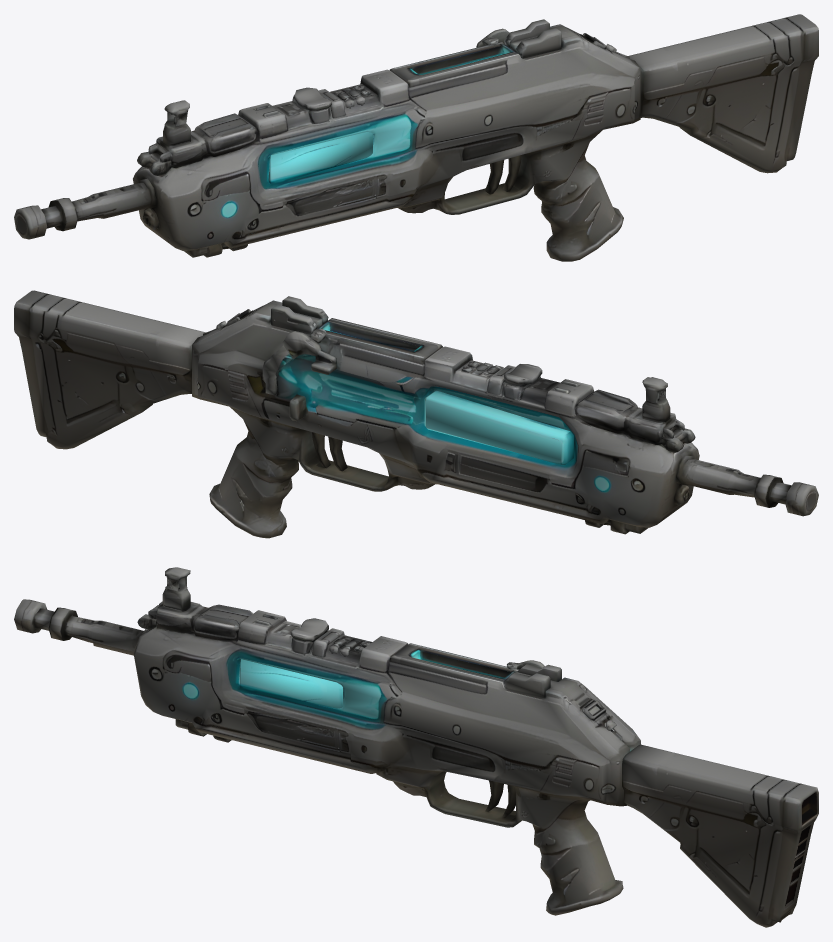
The model's file is pulse_rifle.glb.
3 views of the same model, one above another, from view 1: azimuth 30°, elevation 25°; view 2: azimuth 150°, elevation 25°; view 3: azimuth 330°, elevation 25° (orthographic).
Visible parts, largest first — view 1: tripo_node_dffc44fe-918c-4e76-9398-6298ffdd0a28; view 2: tripo_node_dffc44fe-918c-4e76-9398-6298ffdd0a28; view 3: tripo_node_dffc44fe-918c-4e76-9398-6298ffdd0a28.
Boxes of the visible parts, x1,y1,x2,y2 form: tripo_node_dffc44fe-918c-4e76-9398-6298ffdd0a28: (14,14,818,261); tripo_node_dffc44fe-918c-4e76-9398-6298ffdd0a28: (14,290,818,538); tripo_node_dffc44fe-918c-4e76-9398-6298ffdd0a28: (14,567,818,927).
Size of the model in its own units: 0.998 by 0.2988 by 0.0957.
1 material, 1 textured.
